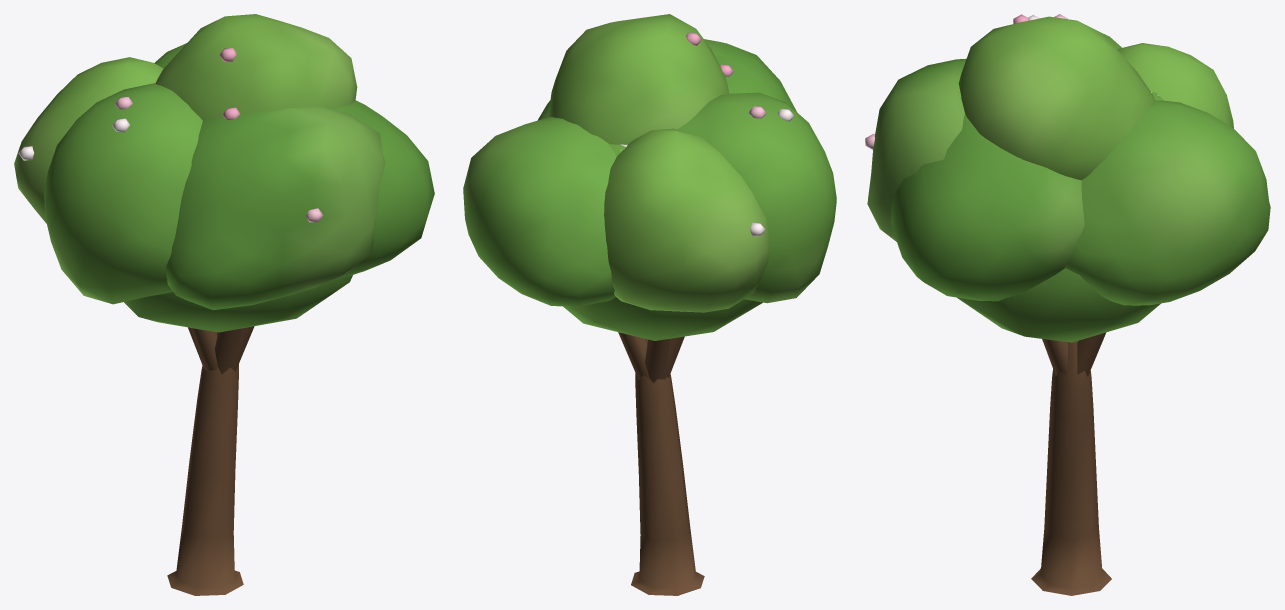
The model's file is decor_feuillu_printemps_3.glb.
3 renders of one model, left to right at view 1: azimuth 30°, elevation 25°; view 2: azimuth 150°, elevation 25°; view 3: azimuth 270°, elevation 25°, orthographic. The views are drawn at different scales.
Visible parts, largest first — view 1: feuillage, tronc, fleurs; view 2: feuillage, tronc, fleurs; view 3: feuillage, tronc.
Boxes of the visible parts, box(x1,y1,x2,y2) form: feuillage: box(14, 14, 434, 332); tronc: box(167, 326, 254, 595); fleurs: box(18, 48, 323, 222); feuillage: box(463, 14, 836, 340); tronc: box(618, 332, 704, 595); fleurs: box(620, 32, 794, 236); feuillage: box(867, 16, 1270, 342); tronc: box(1031, 332, 1111, 595).
Size of the model in its own units: 0.3863 by 0.64 by 0.4116.
